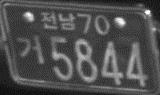0: (94, 13, 111, 37)
4: (125, 40, 149, 89), (100, 40, 124, 86)
5: (48, 34, 74, 81)
7: (76, 12, 92, 35)
8: (73, 37, 98, 83)
거: (15, 33, 45, 66)
전남_O: (39, 11, 76, 31)
